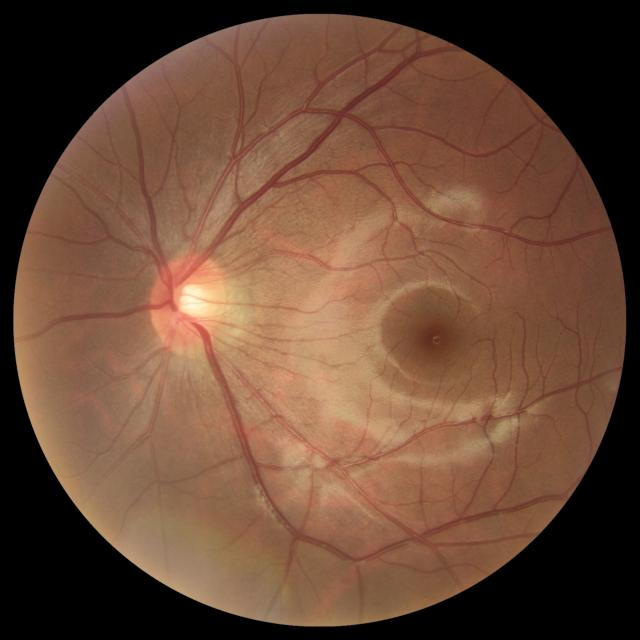OC: (170, 280, 208, 320)
OD: (151, 253, 231, 351)
